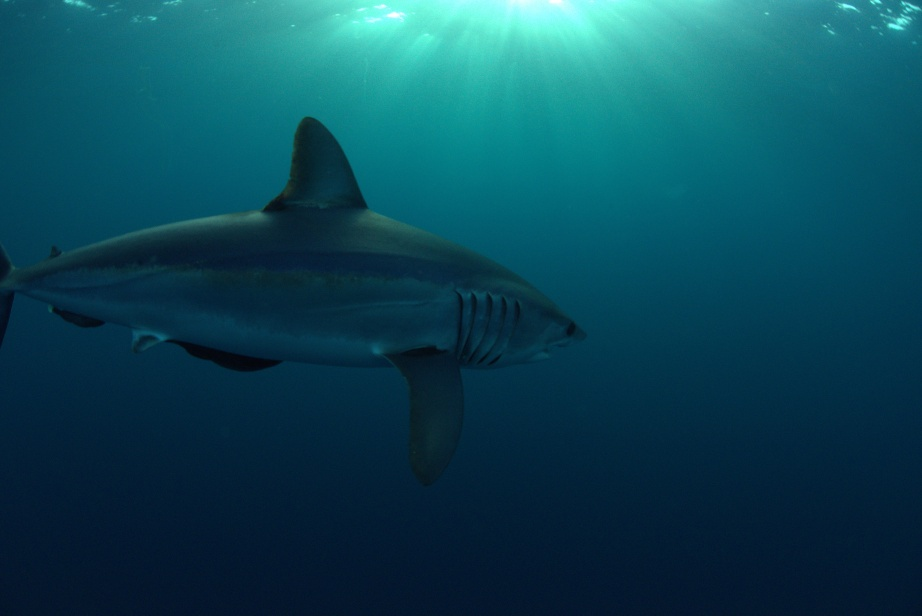Mako: (1, 110, 606, 496)
